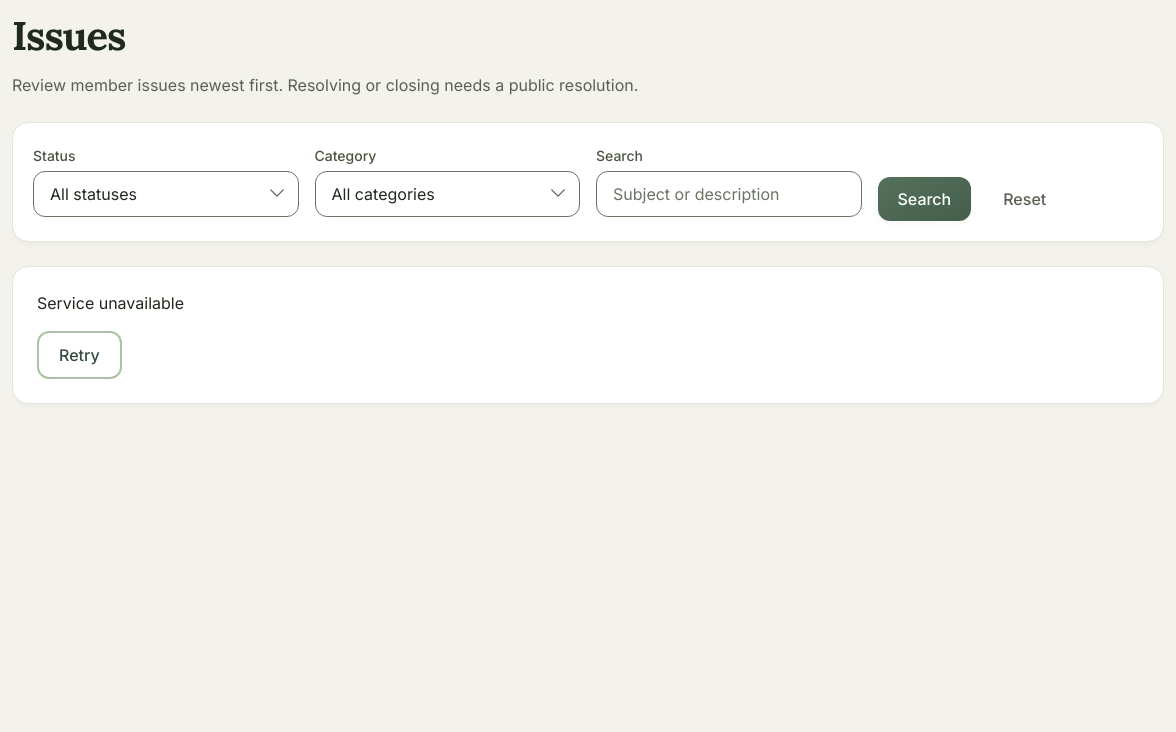
Test: AdminIssuesPage.vue › retries a failed inbox load and renders missing detail safely
Click the button with test id "issues-retry" at (79, 355), box [37,331,122,379]
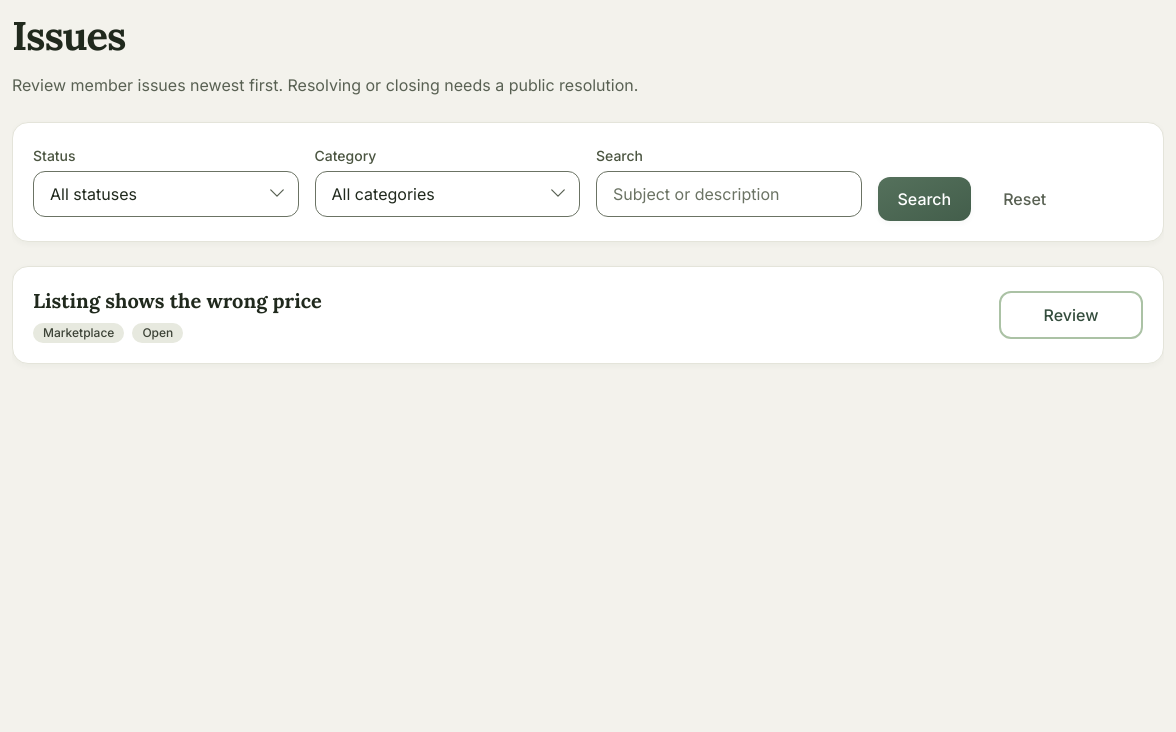
Now the text "Listing shows the wrong price" is shown, box [33,287,322,315]
Click the button "Review" at (1071, 315), box [999,291,1143,339]
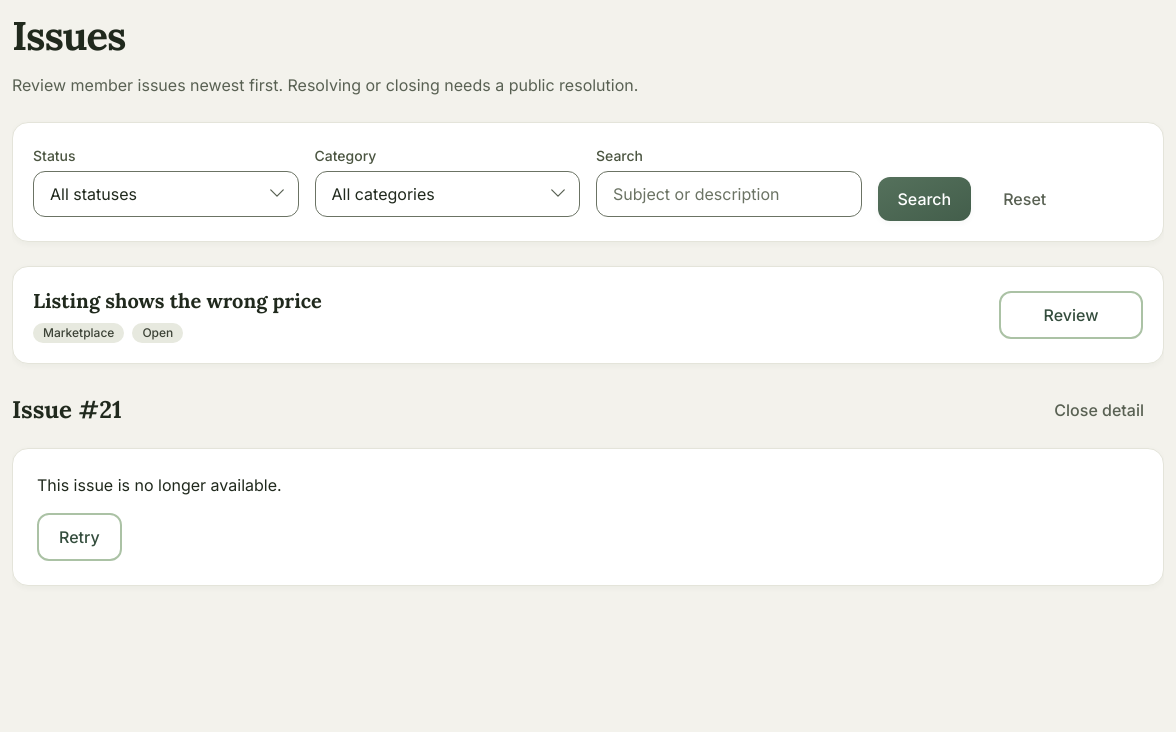
Now the text "no longer available" is shown, box [37,475,282,495]
